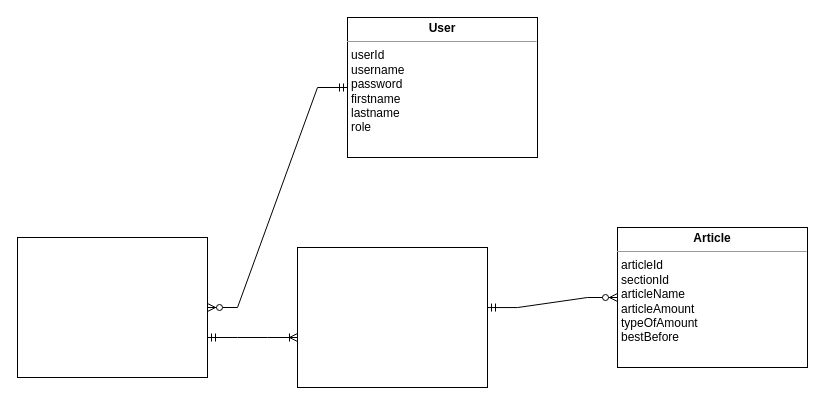
Image size: 825x405. Some labels were removed from this diagram. Here are the shapes that lost their labels. From the top down, the centre of each, then its label:
At point (112, 307): "Place placeId placeName userId".
At point (392, 317): "Section sectionId sectionName placeId".
